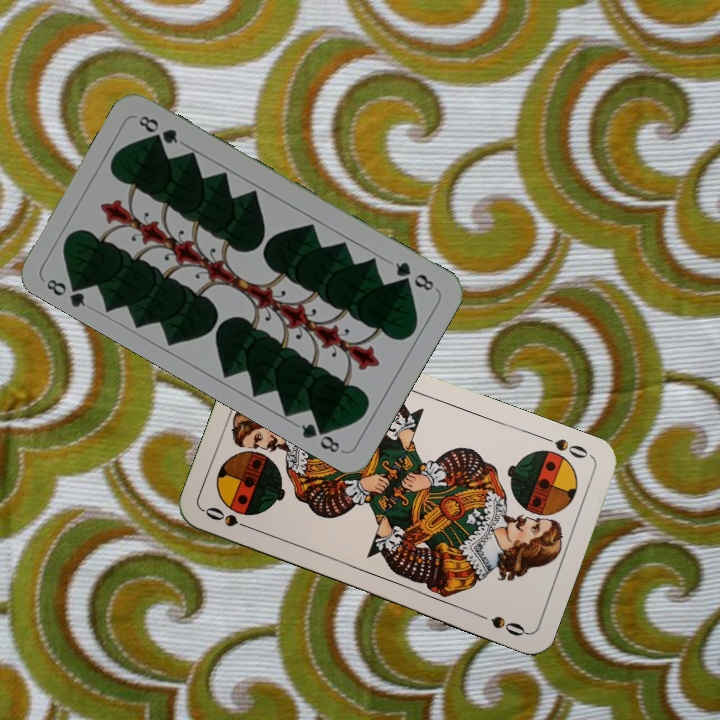G8: (42, 274, 89, 310), (391, 258, 437, 294)
SO: (201, 502, 258, 534), (537, 432, 594, 461)
